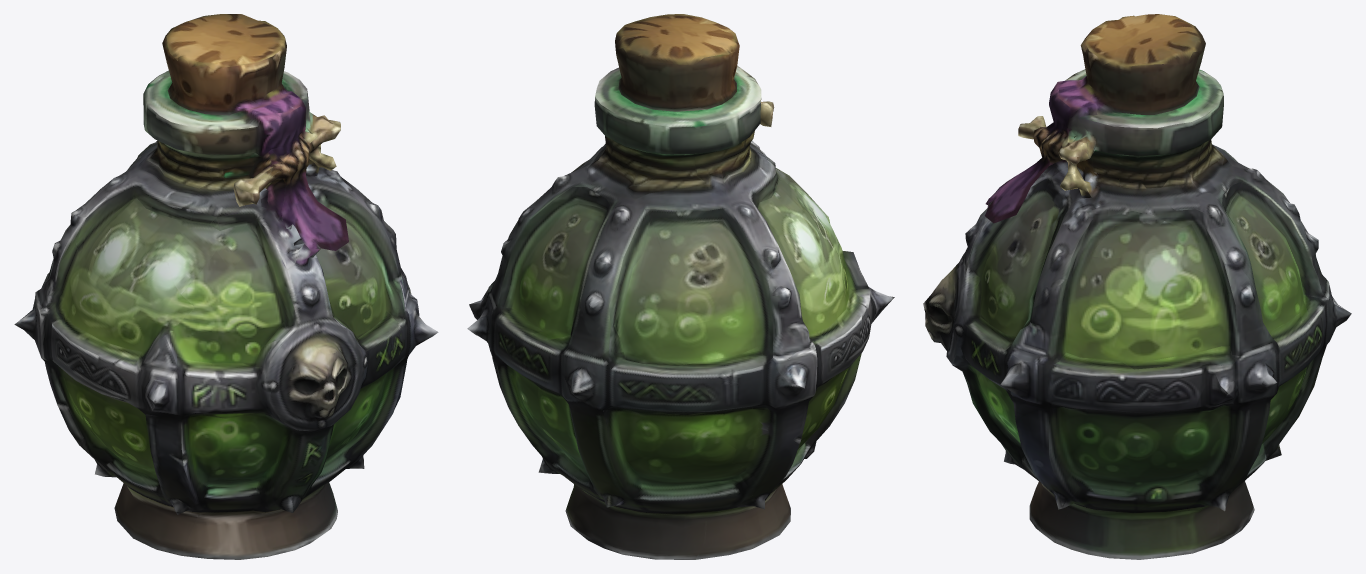
The model's file is illness.glb.
The picture shows the model from 3 angles, left to right: view 1: azimuth 30°, elevation 25°; view 2: azimuth 150°, elevation 25°; view 3: azimuth 270°, elevation 25°; orthographic projection.
Visible parts, largest first — view 1: Potion Bottle; view 2: Potion Bottle; view 3: Potion Bottle.
Part boxes in pixels (<box>): Potion Bottle: <box>14,14,438,559</box>; Potion Bottle: <box>467,14,894,559</box>; Potion Bottle: <box>923,14,1351,559</box>.
Bounding box in the file's own units: 0.1452 × 0.2 × 0.1617.
Materials: 1 (1 with a texture image).
